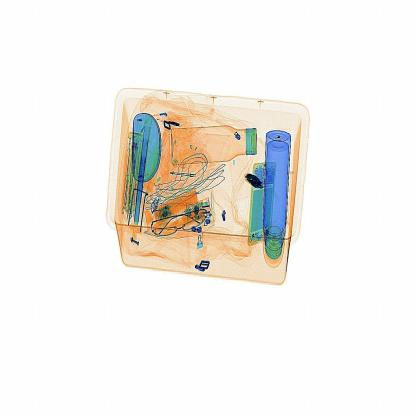scissors: (239, 164, 273, 203)
